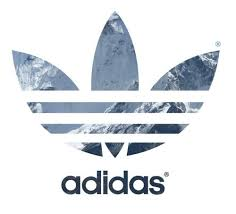adidas: (11, 11, 221, 195)
